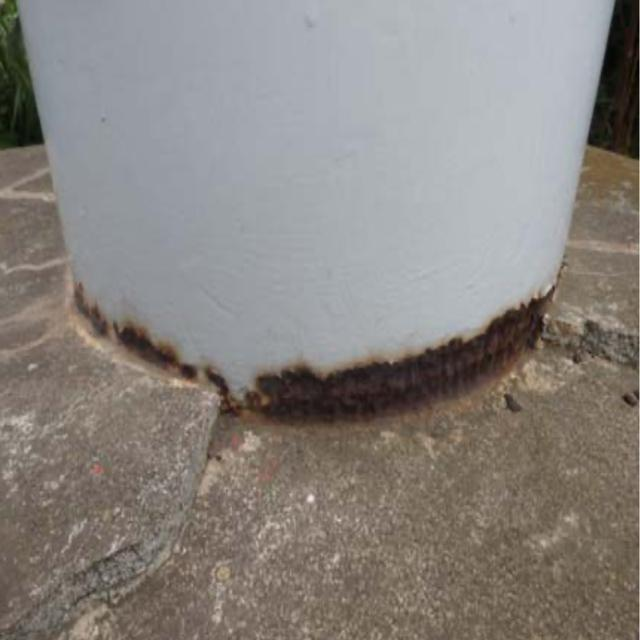corrosion: (67, 280, 552, 434)
